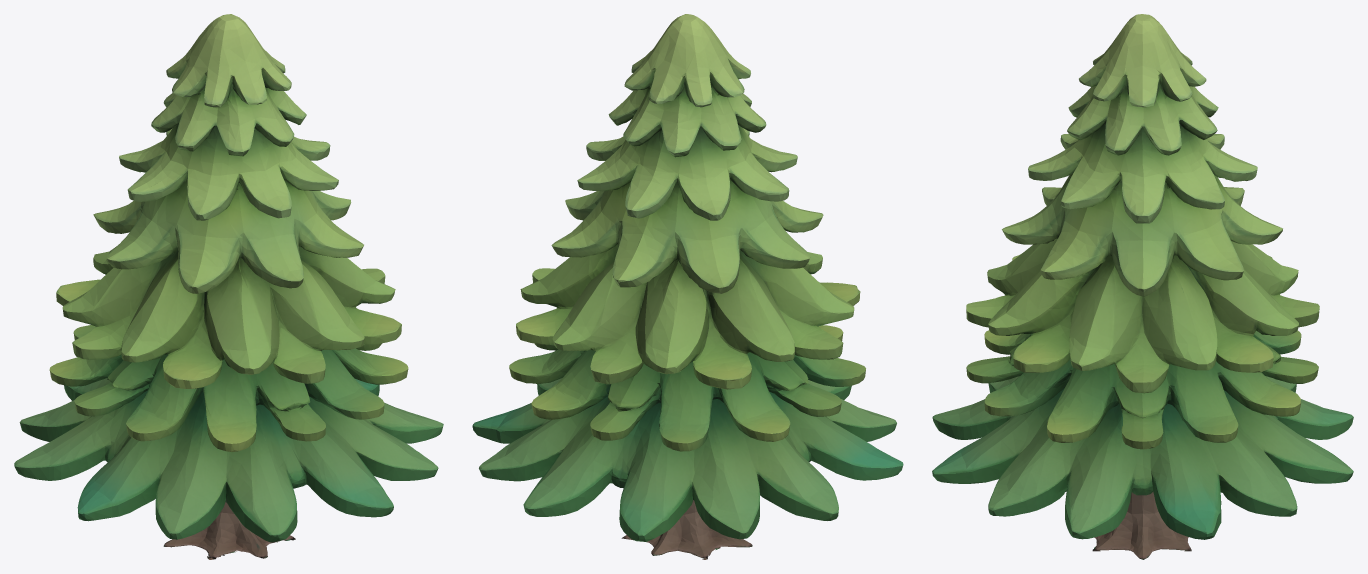
Rendered from pine1.glb.
3 renders of one model, left to right at view 1: azimuth 30°, elevation 25°; view 2: azimuth 150°, elevation 25°; view 3: azimuth 270°, elevation 25°, orthographic.
Visible parts, largest first — view 1: world; view 2: world; view 3: world.
Part boxes in pixels (x1,y1,x2,y2): world: (14,14,443,559); world: (472,14,903,559); world: (932,14,1353,559).
Bounding box in the file's own units: 0.7453 × 1 × 0.7452.
1 material, 1 textured.
